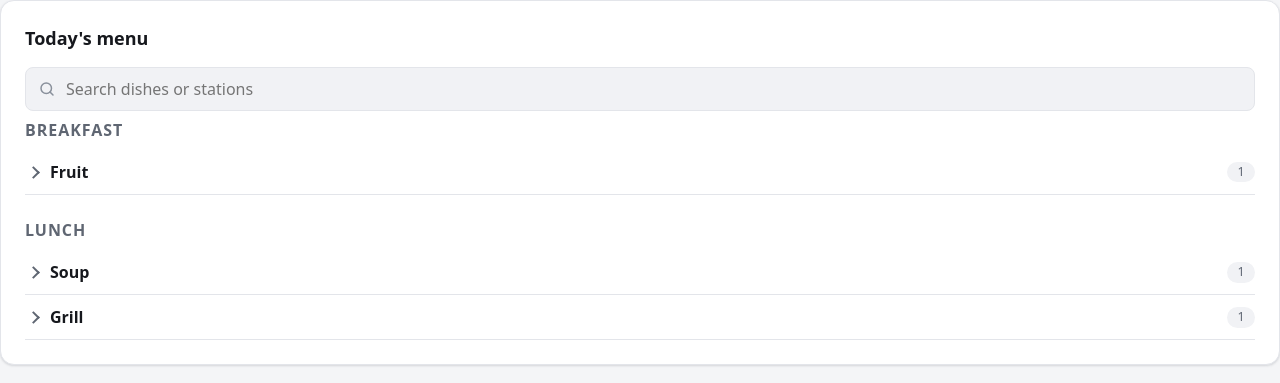
Test: MenuView › filters dishes by the search box and opens the stations that match
Type "BAN" into the search field labelled "Search dishes" at (640, 89), box [25,67,1255,111]
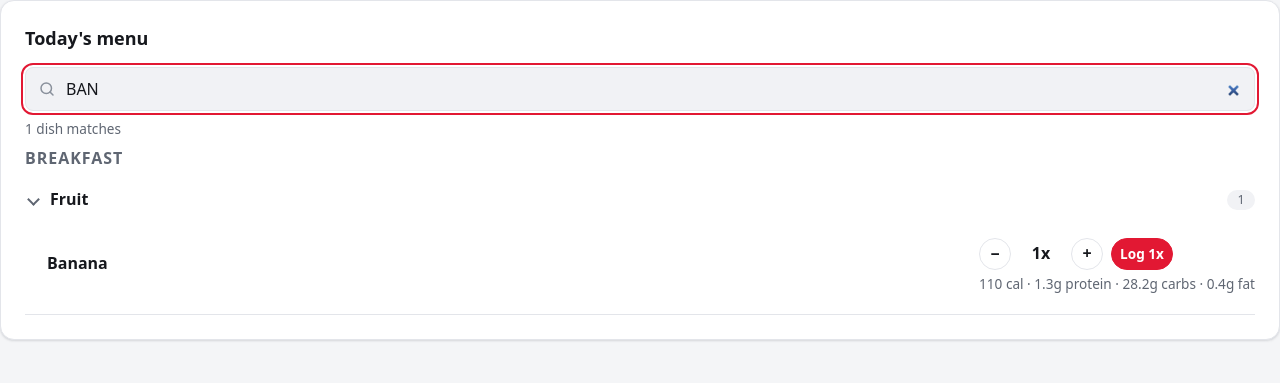
Now the text "Banana" is shown, box [47,252,108,275]
Now the heading "Lunch" is gone
Now the message reads "1 dish matches", box [25,119,121,138]
